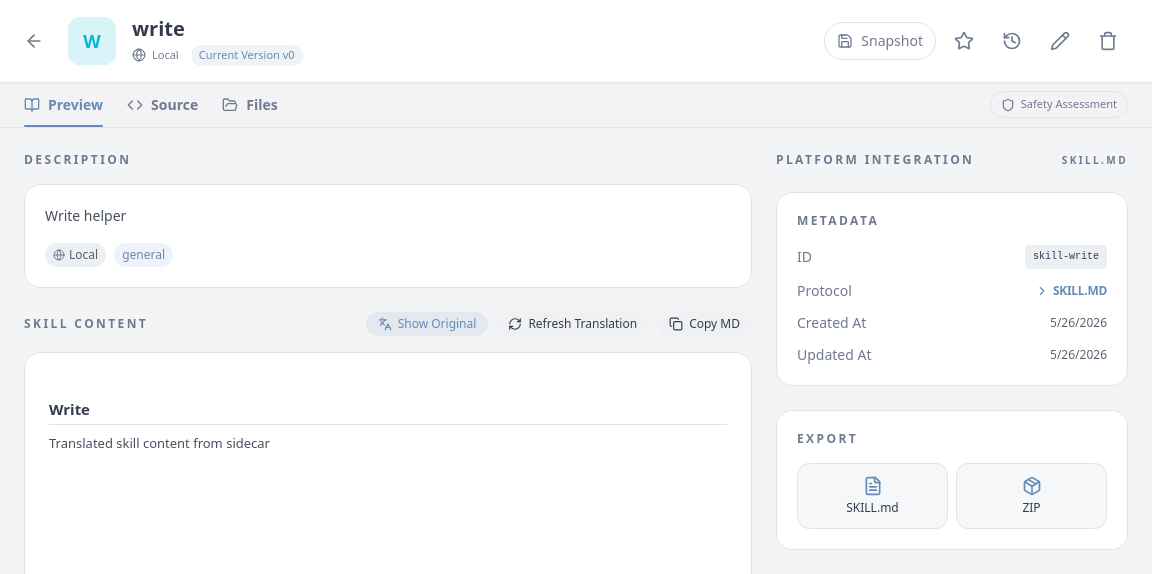
it: skill i18n smoke › defaults to saved translation and toggles back to original content
The image size is (1152, 574).
expect the text "Translated skill content from sidecar" is shown: met, box [49,434,270,452]
expect the text "Write helper" is shown: met, box [45,206,126,224]
Click the button "Show Original" at [427, 324], box [366,312,488,336]
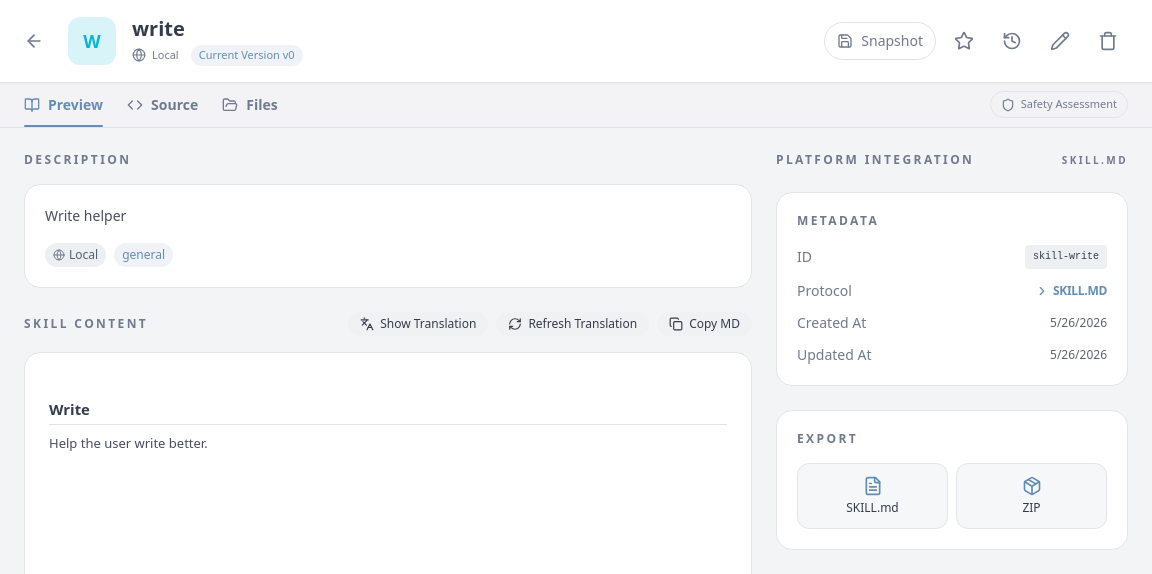
expect the button "Show Translation" is shown: met, box [348,312,488,336]
expect the text "Help the user write better." is shown: met, box [49,434,208,452]
